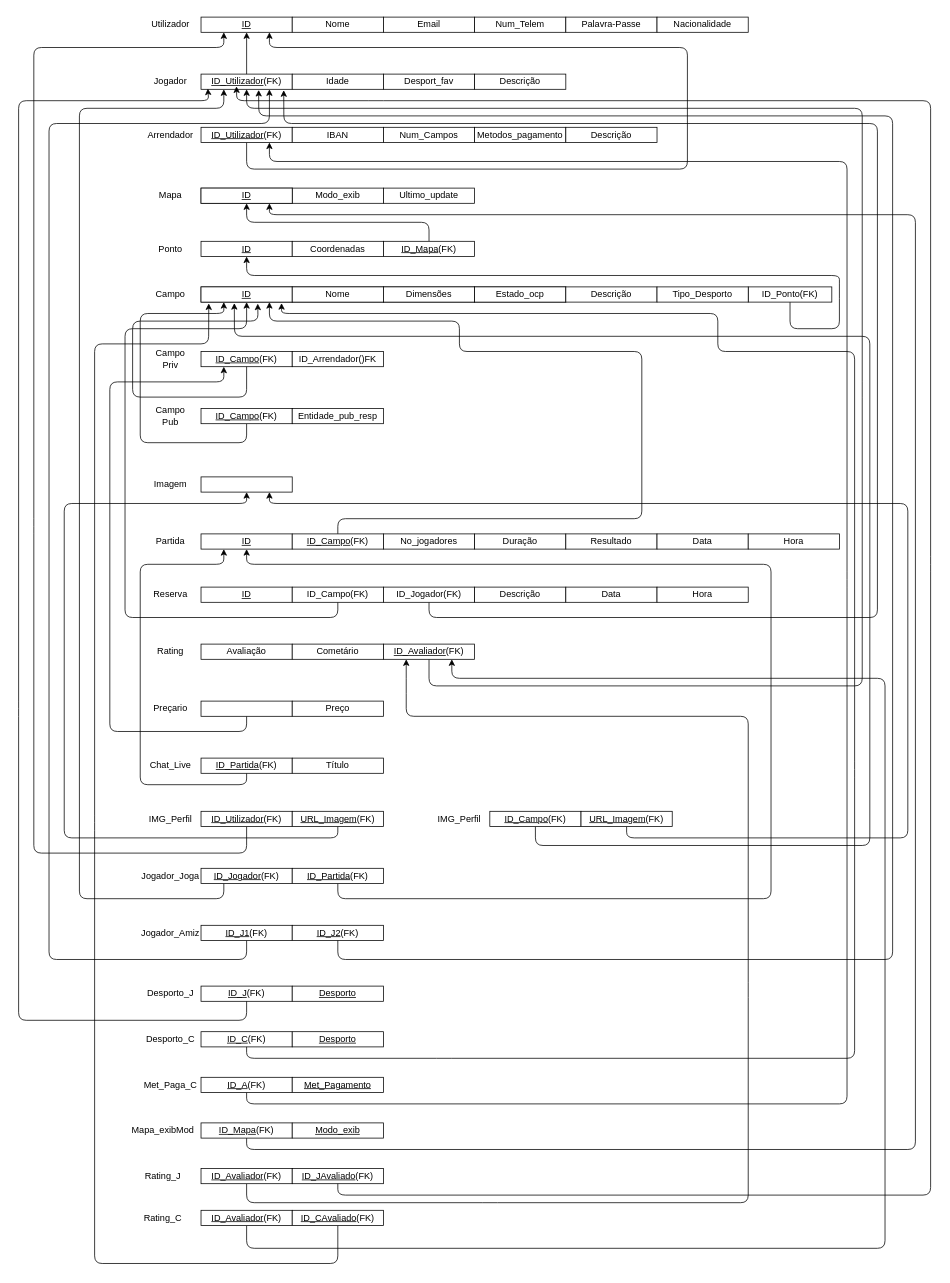
Some shapes in this 950 by 1283 pixel diagram are drawn without their labels. The centre of each missing label's shape, as x and y in pixels:
"ID_Campo_Priv (FK)" goes at [246,708].
"URL" goes at [246,484].
